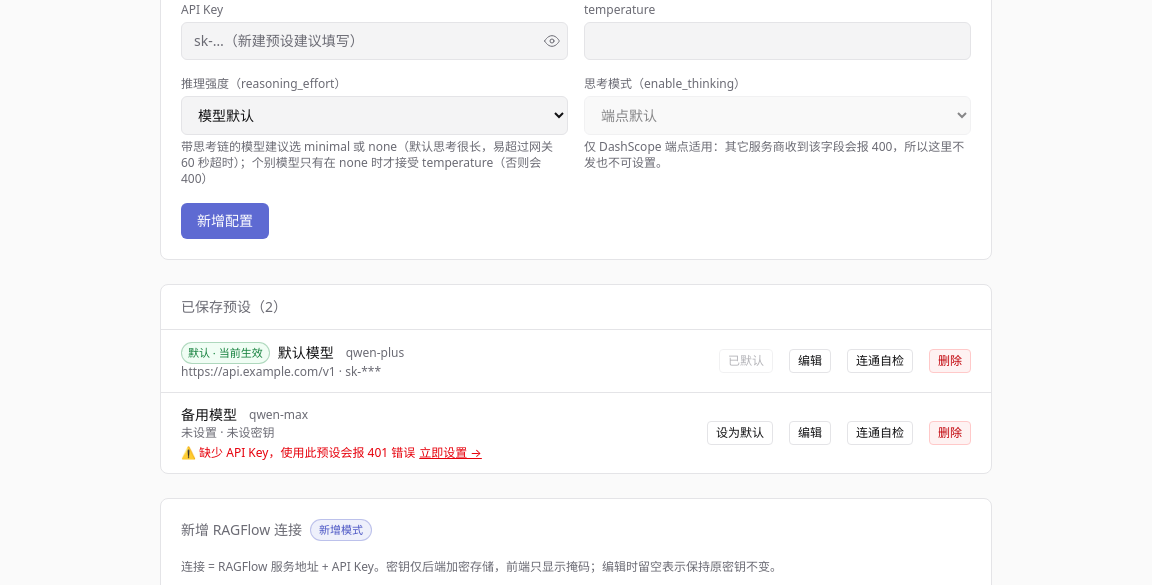
it: ConfigPage › 取消编辑清空表单并退出编辑态
(page scrolled)
Expected: the text "默认模型" is shown, left=278, top=343, right=334, bottom=362
Click the button "编辑" in the row of "qwen-plus".
click(810, 361)  # box left=789, top=349, right=831, bottom=373
(page scrolled)
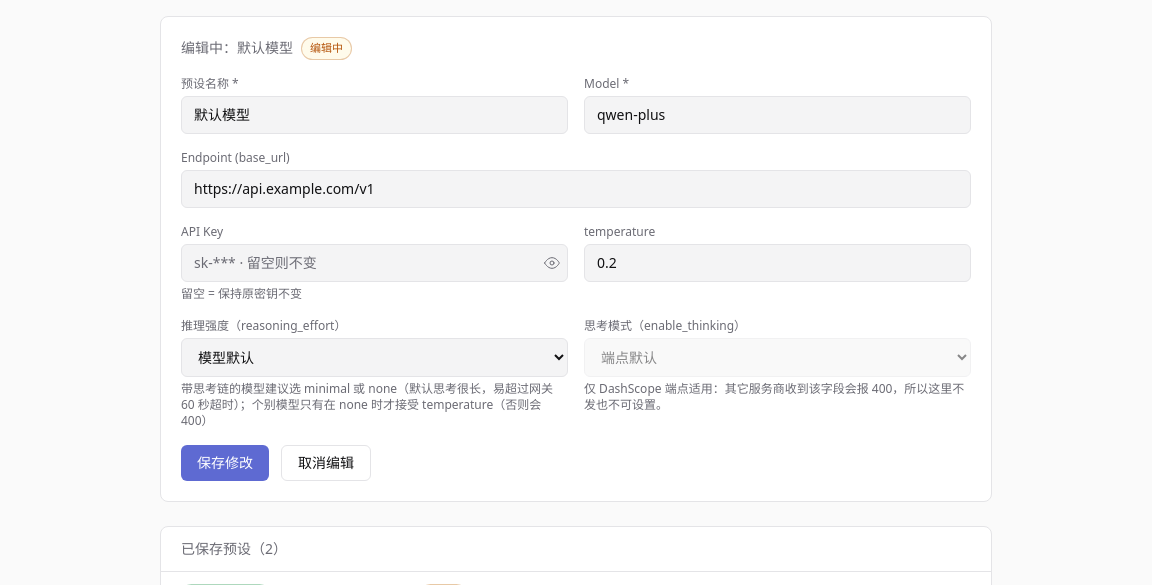
Click the button "取消编辑".
click(326, 462)  # box left=281, top=444, right=371, bottom=480
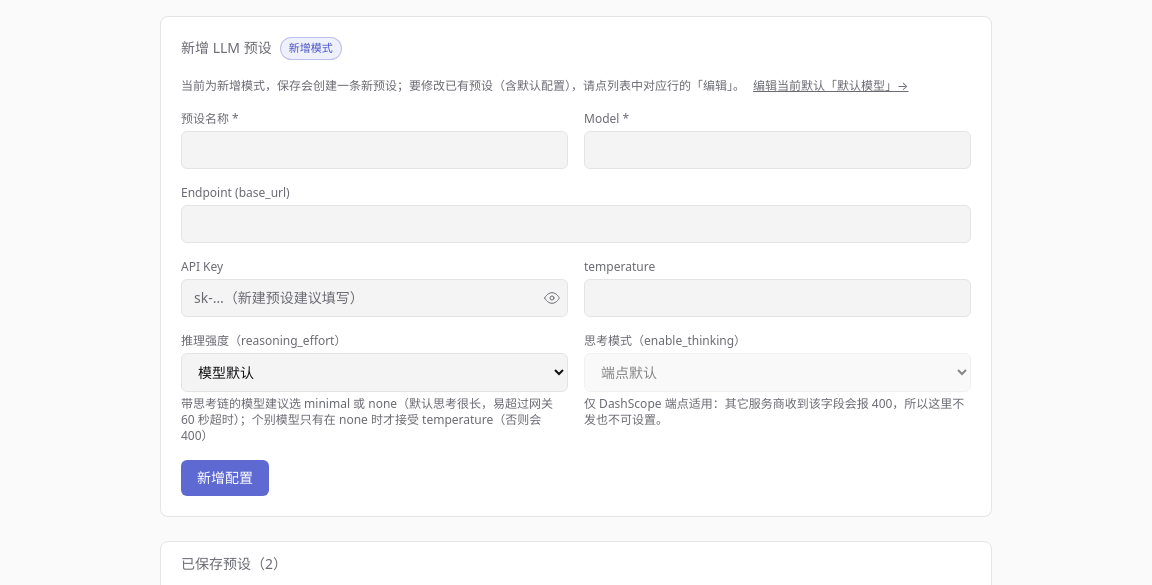
Now the heading "新增 LLM 预设" is shown, box left=181, top=38, right=272, bottom=58
Now the field named "预设名称" is empty, box left=181, top=131, right=568, bottom=169
